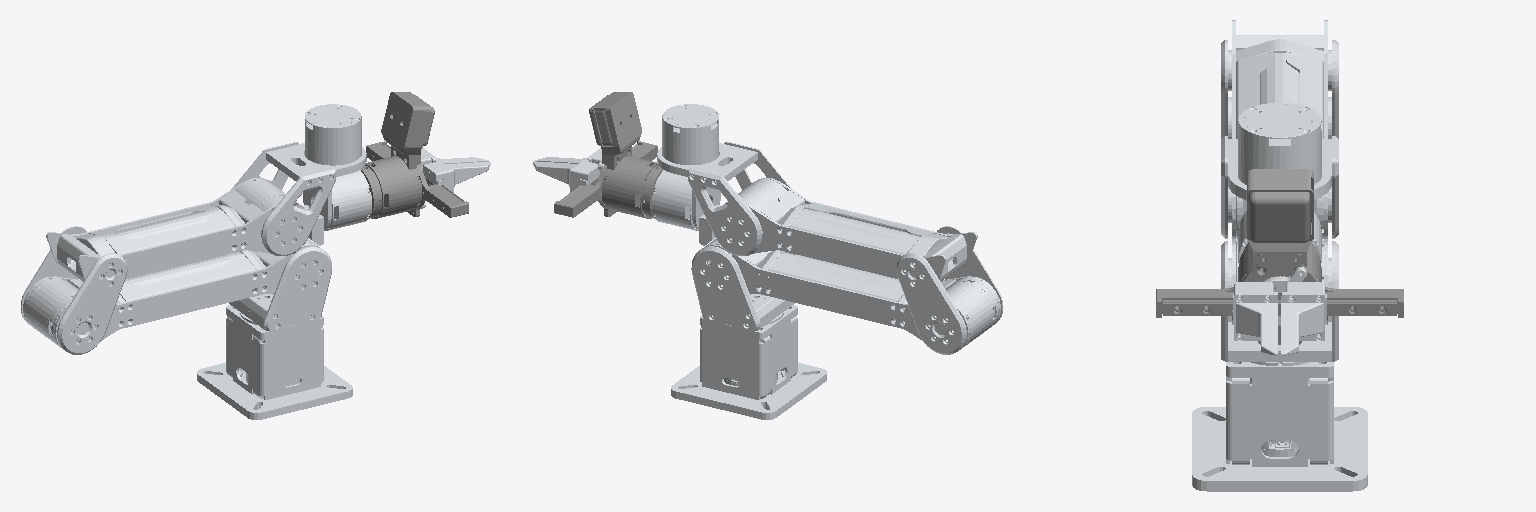
URDF robot description (zk_xm115_00_description):
<?xml version="1.0" encoding="utf-8"?>
<robot name="zk_xm115_00_description">
  
  <material name="light_grey">
    <color rgba="0.89804 0.91765 0.92941 1" />
  </material>
  <material name="dark_grey">
    <color rgba="0.64706 0.64706 0.64706 1" />
  </material>

  <link name="base_link">
    <inertial>
      <origin xyz="-0.007131 0.001945 0.043144" rpy="0 0 0" />
      <mass value="0.916" />
      <inertia ixx="0.002185445" ixy="-0.000227209" ixz="-0.000723781" iyy="0.003441872" iyz="0.000200330" izz="0.002680529" />
    </inertial>
    <visual>
      <origin xyz="0 0 0" rpy="0 0 0" />
      <geometry>
        <mesh filename="package://zekeep_bringup/description/meshes/base_link.STL" />
      </geometry>
      <material name="light_grey" />
    </visual>
    <collision>
      <origin xyz="0 0 0" rpy="0 0 0" />
      <geometry>
        <mesh filename="package://zekeep_bringup/description/meshes/base_link.STL" />
      </geometry>
    </collision>
  </link>

  <link name="link1">
    <inertial>
      <origin xyz="-0.00721199856 0.000698341 0.045955638" rpy="0 0 0" />
      <mass value="0.735" />
      <inertia ixx="0.000175065" ixy="0.000000212" ixz="0.000015081" iyy="0.000196979" iyz="-0.000000247" izz="0.000192343" />
    </inertial>
    <visual>
      <origin xyz="0 0 0" rpy="0 0 0" />
      <geometry>
        <mesh filename="package://zekeep_bringup/description/meshes/link1.STL" />
      </geometry>
      <material name="light_grey" />
    </visual>
    <collision>
      <origin xyz="0 0 0" rpy="0 0 0" />
      <geometry>
        <mesh filename="package://zekeep_bringup/description/meshes/link1.STL" />
      </geometry>
    </collision>
  </link>

  <link name="link2">
    <inertial>
      <origin xyz="0.197269 -0.000018 -0.030544" rpy="0 0 0" />
      <mass value="0.768" />
      <inertia ixx="0.000476697" ixy="-0.000002947" ixz="0.000055442" iyy="0.005877765" iyz="0.000000856" izz="0.005694930" />
    </inertial>
    <visual>
      <origin xyz="0 0 0" rpy="0 0 0" />
      <geometry>
        <mesh filename="package://zekeep_bringup/description/meshes/link2.STL" />
      </geometry>
      <material name="light_grey" />
    </visual>
    <collision>
      <origin xyz="0 0 0" rpy="0 0 0" />
      <geometry>
        <mesh filename="package://zekeep_bringup/description/meshes/link2.STL" />
      </geometry>
    </collision>
  </link>

  <link name="link3">
    <inertial>
      <origin xyz="0.146501 0.048525 0.030587" rpy="0 0 0" />
      <mass value="0.859" />
      <inertia ixx="0.000915548" ixy="0.000691174" ixz="-0.000116795" iyy="0.008789562" iyz="-0.000011161" izz="0.008645906" />
    </inertial>
    <visual>
      <origin xyz="0 0 0" rpy="0 0 0" />
      <geometry>
        <mesh filename="package://zekeep_bringup/description/meshes/link3.STL" />
      </geometry>
      <material name="light_grey" />
    </visual>
    <collision>
      <origin xyz="0 0 0" rpy="0 0 0" />
      <geometry>
        <mesh filename="package://zekeep_bringup/description/meshes/link3.STL" />
      </geometry>
    </collision>
  </link>

  <link name="link4">
    <inertial>
      <origin xyz="0.056244 0.051257 0.031059" rpy="0 0 0" />
      <mass value="0.506" />
      <inertia ixx="0.000635492" ixy="0.000343343" ixz="-0.000002832" iyy="0.000789294" iyz="-0.000002020" izz="0.000897884" />
    </inertial>
    <visual>
      <origin xyz="0 0 0" rpy="0 0 0" />
      <geometry>
        <mesh filename="package://zekeep_bringup/description/meshes/link4.STL" />
      </geometry>
      <material name="light_grey" />
    </visual>
    <collision>
      <origin xyz="0 0 0" rpy="0 0 0" />
      <geometry>
        <mesh filename="package://zekeep_bringup/description/meshes/link4.STL" />
      </geometry>
    </collision>
  </link>

  <link name="link5">
    <inertial>
      <origin xyz="-0.003856035728 -0.000000000221 -0.047059240881" rpy="0 0 0" />
      <mass value="0.391" />
      <inertia ixx="0.000225324549" ixy="0.000000000994" ixz="0.000053807136" iyy="0.000285103036" iyz="0.000000036977" izz="0.000227654172" />
    </inertial>
    <visual>
      <origin xyz="0 0 0" rpy="0 0 0" />
      <geometry>
        <mesh filename="package://zekeep_bringup/description/meshes/link5.STL" />
      </geometry>
      <material name="light_grey" />
    </visual>
    <collision>
      <origin xyz="0 0 0" rpy="0 0 0" />
      <geometry>
        <mesh filename="package://zekeep_bringup/description/meshes/link5.STL" />
      </geometry>
    </collision>
  </link>

  <link name="link6">
    <inertial>
      <origin xyz="0.000070 0.010969 0.046197" rpy="0 0 0" />
      <mass value="0.643" />
      <inertia ixx="0.000609430" ixy="0.000002066" ixz="0.000000563" iyy="0.000607333" iyz="0.000071787" izz="0.000843408" />
    </inertial>
    <visual>
      <!-- 只修正 J6 外壳方向，不改变夹指和 TCP 位姿 -->
      <origin xyz="0 0 0" rpy="0 0 1.5707963267948966" />
      <geometry>
        <mesh filename="package://zekeep_bringup/description/meshes/link6.STL" />
      </geometry>
      <material name="dark_grey" />
    </visual>
    <collision>
      <origin xyz="0 0 0" rpy="0 0 1.5707963267948966" />
      <geometry>
        <mesh filename="package://zekeep_bringup/description/meshes/link6.STL" />
      </geometry>
    </collision>
  </link>

  <joint name="joint1" type="revolute">
    <origin xyz="0 0 0.0725" rpy="0 0 3.1416" />
    <parent link="base_link" />
    <child link="link1" />
    <axis xyz="0 0 -1" />
    <limit lower="-2.58" upper="2.58" effort="27" velocity="8" />
  </joint>
  
  <joint name="joint2" type="revolute">
    <origin xyz="-0.016376 -0.031625 0.064309" rpy="1.5708 0 0" />
    <parent link="link1" />
    <child link="link2" />
    <axis xyz="0 0 1" />
    <limit lower="0" upper="3.7" effort="27" velocity="8" />
  </joint>
  
  <joint name="joint3" type="revolute">
    <origin xyz="0.26 0 0" rpy="3.1416 0 3.1416" />
    <parent link="link2" />
    <child link="link3" />
    <axis xyz="0 0 1" />
    <limit lower="0" upper="3.7" effort="27" velocity="8" />
  </joint>
  
  <joint name="joint4" type="revolute">
    <origin xyz="0.236 0.053693 0.00075" rpy="0 0 0" />
    <parent link="link3" />
    <child link="link4" />
    <axis xyz="0 0 1" />
    <limit lower="-1.57" upper="1.57" effort="12.5" velocity="30" />
  </joint>
  
  <joint name="joint5" type="revolute">
    <origin xyz="0.0748682393924207 0.0470000537620406 0.0308749462379592" rpy="1.57079632679489 0 3.14159265358979" />
    <parent link="link4" />
    <child link="link5" />
    <axis xyz="0 0 1" />
    <limit lower="-1.57" upper="1.57" effort="12.5" velocity="30" />
  </joint>
  
  <joint name="joint6" type="revolute">
    <origin xyz="-0.03 0 -0.04675" rpy="1.5707963267948966 0 -1.5707963267948966" />
    <parent link="link5" />
    <child link="link6" />
    <axis xyz="0 0 -1" />
    <limit lower="-1.57" upper="1.57" effort="12.5" velocity="30" />
  </joint>

  <!-- 将分散的 rod_right 和 rod_left 合并进 gripper_base，并更新质量 -->
  <link name="gripper_base">
    <inertial>
      <origin xyz="0.000001 0.000001 0.005660" rpy="0 0 0" />
      <mass value="0.021" />
      <inertia ixx="0.000003038" ixy="0.000000679" ixz="0.0" iyy="0.000002480" iyz="0.0" izz="0.000005094" />
    </inertial>
    
    <visual>
      <origin xyz="0 0 0" rpy="0 0 0" />
      <geometry>
        <mesh filename="package://zekeep_bringup/description/meshes/gripper_base.STL" />
      </geometry>
      <material name="light_grey" />
    </visual>
    <collision>
      <origin xyz="0 0 0" rpy="0 0 0" />
      <geometry>
        <mesh filename="package://zekeep_bringup/description/meshes/gripper_base.STL" />
      </geometry>
    </collision>


  </link>

  <link name="right_link">
    <inertial>
      <origin xyz="-0.015369 -0.000001 0.088532" rpy="0 0 0" />
      <mass value="0.045195" />
      <inertia ixx="0.000013409" ixy="0.0" ixz="0.000002235" iyy="0.000012302" iyz="0.0" izz="0.000006864" />
    </inertial>
    <visual>
      <origin xyz="0 0 0" rpy="0 0 0" />
      <geometry>
        <mesh filename="package://zekeep_bringup/description/meshes/right_link.STL" />
      </geometry>
      <material name="light_grey" />
    </visual>
    <collision>
      <origin xyz="0 0 0" rpy="0 0 0" />
      <geometry>
        <mesh filename="package://zekeep_bringup/description/meshes/right_link.STL" />
      </geometry>
    </collision>
  </link>

  <link name="left_link">
    <inertial>
      <origin xyz="0.014997 -0.000001 0.088532" rpy="0 0 0" />
      <mass value="0.045195" />
      <inertia ixx="0.000013409" ixy="0.0" ixz="-0.000002235" iyy="0.000012302" iyz="0.0" izz="0.000006864" />
    </inertial>
    <visual>
      <origin xyz="0 0 0" rpy="0 0 0" />
      <geometry>
        <mesh filename="package://zekeep_bringup/description/meshes/left_link.STL" />
      </geometry>
      <material name="light_grey" />
    </visual>
    <collision>
      <origin xyz="0 0 0" rpy="0 0 0" />
      <geometry>
        <mesh filename="package://zekeep_bringup/description/meshes/left_link.STL" />
      </geometry>
    </collision>
  </link>

  <joint name="gripper_base_fixed_joint" type="fixed">
    <origin xyz="0 0 0.056" rpy="0 0 0" />
    <parent link="link6" />
    <child link="gripper_base" />
  </joint>
  
  <joint name="gripper_joint" type="prismatic">
    <!-- 将 rpy 恢复为 0 0 0 -->
    <origin xyz="0 0 -0.056" rpy="0 0 0" />
    <parent link="gripper_base" />
    <child link="left_link" />
    <axis xyz="1 0 0" />
    <limit lower="0" upper="0.035" effort="10" velocity="0.05" />
  </joint>
  
  <joint name="right_joint" type="prismatic">
    <!-- 将 rpy 恢复为 0 0 0 -->
    <origin xyz="0 0 -0.056" rpy="0 0 0" />
    <parent link="gripper_base" />
    <child link="right_link" />
    <axis xyz="-1 0 0" />
    <limit lower="0" upper="0.035" effort="10" velocity="0.05" />
    <mimic joint="gripper_joint" multiplier="1" offset="0" />
  </joint>

  <link name="grasp_tcp" />
  
  <joint name="grasp_tcp_fixed_joint" type="fixed">
    <origin xyz="0 0 0.15539" rpy="0 -1.5708 3.1415" />
    <parent link="link6" />
    <child link="grasp_tcp" />
  </joint>
</robot>

--- Render facts (derived) ---
Views: 3 orthographic renders of the robot side by side, from view 1: azimuth 30°, elevation 25°; view 2: azimuth 150°, elevation 25°; view 3: azimuth 270°, elevation 25°.
Model zk_xm115_00_description with 11 links and 10 joints (6 revolute, 2 prismatic, 2 fixed), rooted at base_link, posed every joint at zero.
Links seen in each view (by area): view 1: link3, base_link, link2, link4, link6, link1, link5, right_link; view 2: link3, base_link, link2, link4, link6, link1, link5, left_link; view 3: base_link, link6, link3, link4, link1, left_link, right_link, link5.
Link boxes in pixels (bbox=[...]): link3: bbox=[21, 178, 304, 354]; base_link: bbox=[197, 261, 352, 419]; link2: bbox=[23, 244, 319, 348]; link4: bbox=[231, 104, 366, 255]; link6: bbox=[360, 92, 468, 218]; link1: bbox=[229, 239, 331, 330]; link5: bbox=[303, 170, 371, 245]; right_link: bbox=[423, 160, 490, 192]; link3: bbox=[724, 178, 1002, 354]; base_link: bbox=[671, 305, 826, 419]; link2: bbox=[704, 244, 1000, 348]; link4: bbox=[657, 104, 792, 255]; link6: bbox=[554, 92, 663, 218]; link1: bbox=[691, 239, 794, 330]; link5: bbox=[652, 170, 720, 245]; left_link: bbox=[533, 160, 599, 192]; base_link: bbox=[1192, 259, 1367, 491]; link6: bbox=[1156, 169, 1403, 344]; link3: bbox=[1221, 20, 1338, 238]; link4: bbox=[1221, 103, 1338, 238]; link1: bbox=[1221, 241, 1338, 361]; left_link: bbox=[1281, 282, 1326, 355]; right_link: bbox=[1233, 282, 1277, 355]; link5: bbox=[1238, 199, 1321, 262].
Size in the robot's own frame: 0.5206 by 0.17 by 0.2838 metres.
10 mesh visuals loaded from 10 distinct referenced files (10 binary STL).
